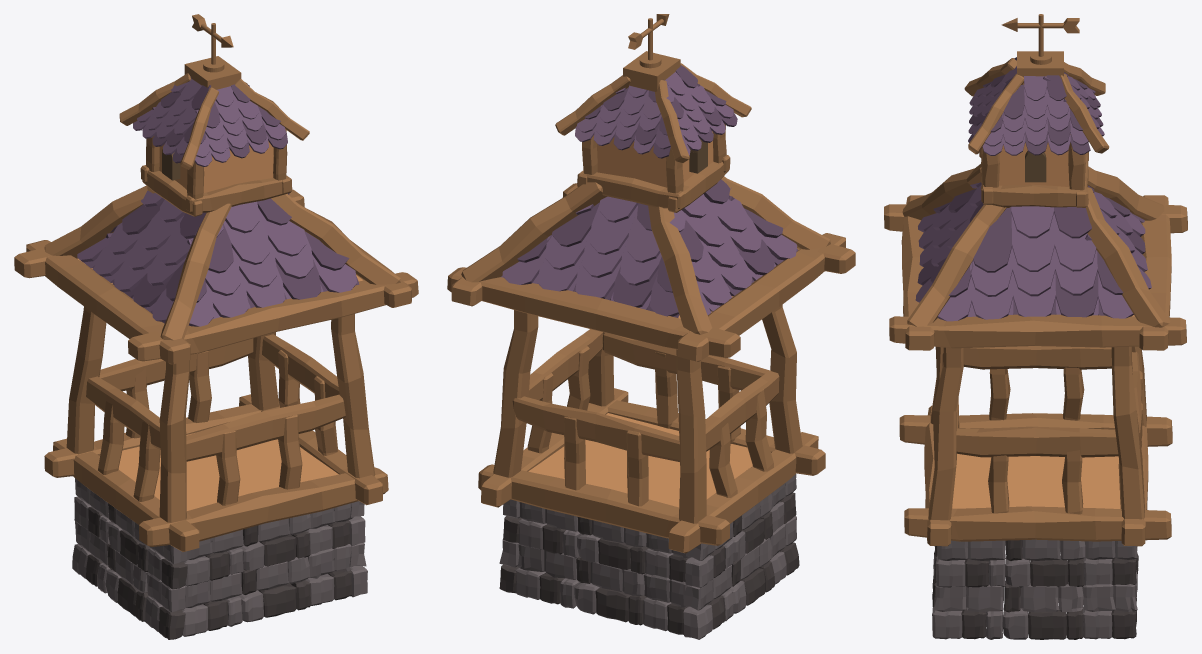
Rendered from ArcherTower.fbx.
3 views of the same model, side by side, from view 1: azimuth 30°, elevation 25°; view 2: azimuth 150°, elevation 25°; view 3: azimuth 270°, elevation 25° (orthographic). The views are drawn at different scales.
Parts seen in each view (by area): view 1: Cube.003; view 2: Cube.003; view 3: Cube.003.
Boxes of the visible parts, box(x1,y1,x2,y2) form: Cube.003: box(14, 14, 418, 639); Cube.003: box(447, 14, 855, 639); Cube.003: box(884, 14, 1187, 639).
Size of the model in its own units: 864 by 1645 by 789.
